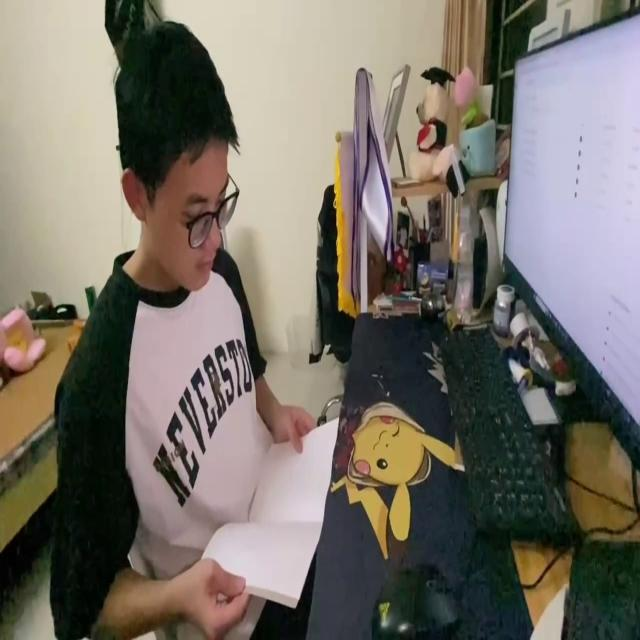book: (205, 417, 342, 608)
laptop: (501, 8, 640, 478)
student: (44, 16, 322, 638)
